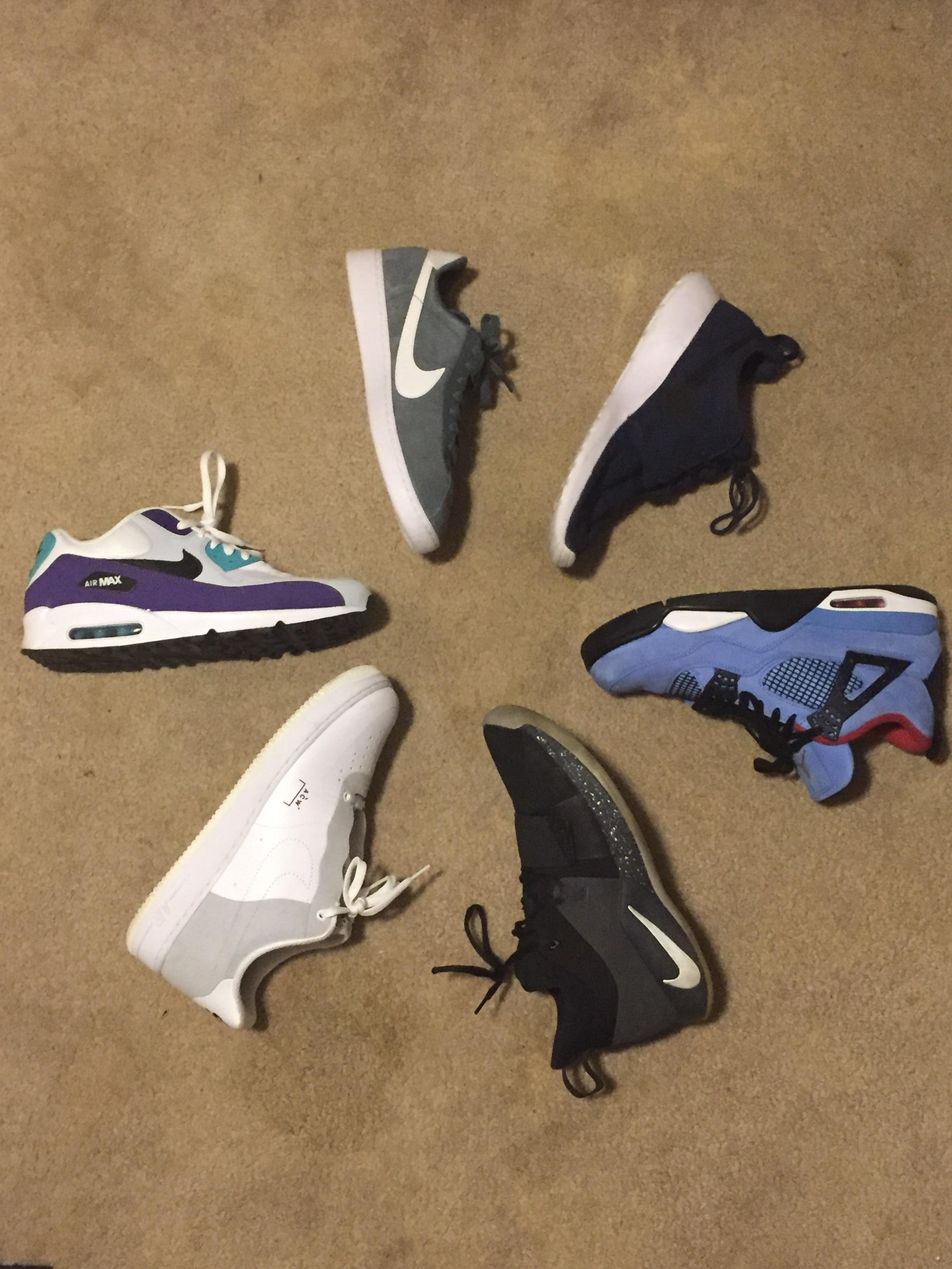sneaker: (114, 645, 437, 1061), (0, 424, 383, 696), (480, 684, 700, 1147), (588, 564, 952, 809), (542, 253, 809, 587), (340, 218, 510, 556)
